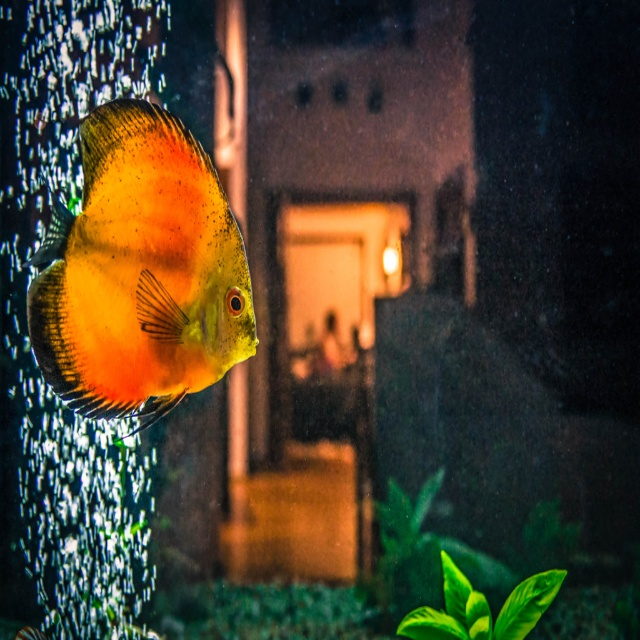Fish: (29, 101, 261, 444)
